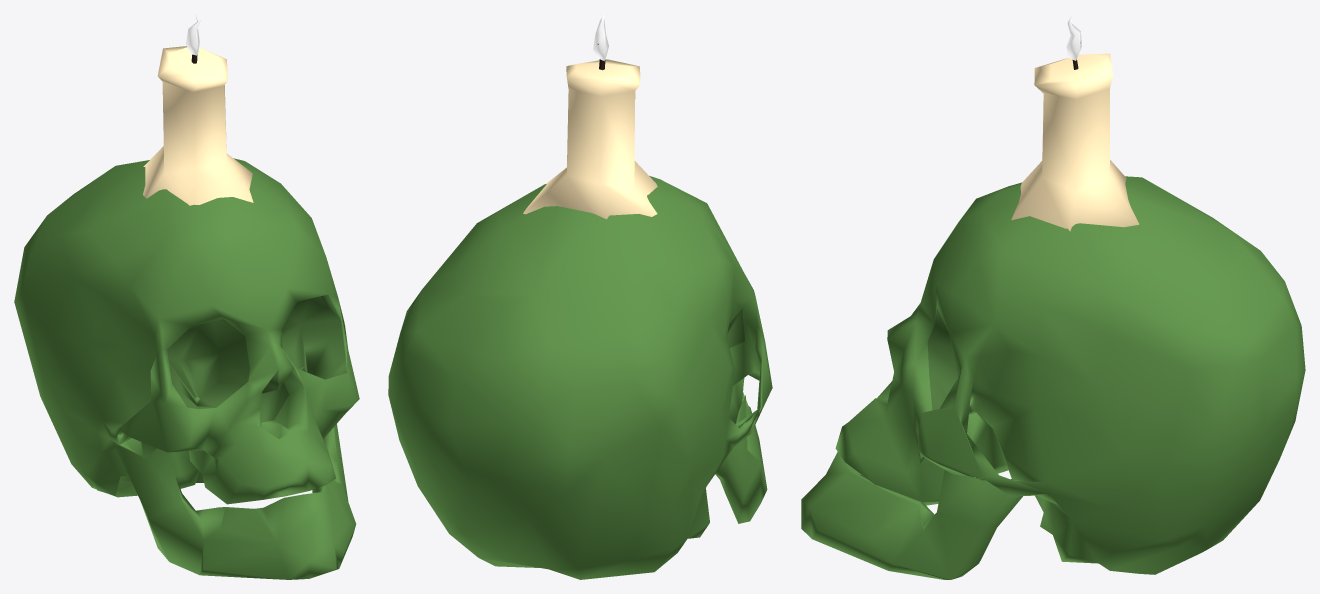
File: CandleSkullShapeB.008.glb
The picture shows the model from 3 angles, left to right: view 1: azimuth 30°, elevation 25°; view 2: azimuth 150°, elevation 25°; view 3: azimuth 270°, elevation 25°; orthographic projection. The views are drawn at different scales.
Parts seen in each view (by area): view 1: CandleSkullShapeB.008; view 2: CandleSkullShapeB.008; view 3: CandleSkullShapeB.008.
Boxes of the visible parts, x1,y1,x2,y2 form: CandleSkullShapeB.008: (14,14,359,579); CandleSkullShapeB.008: (388,14,772,579); CandleSkullShapeB.008: (801,14,1305,579).
Bounding box in the file's own units: 0.2005 × 0.3649 × 0.3132.
Materials: 2 (2 with a texture image).
